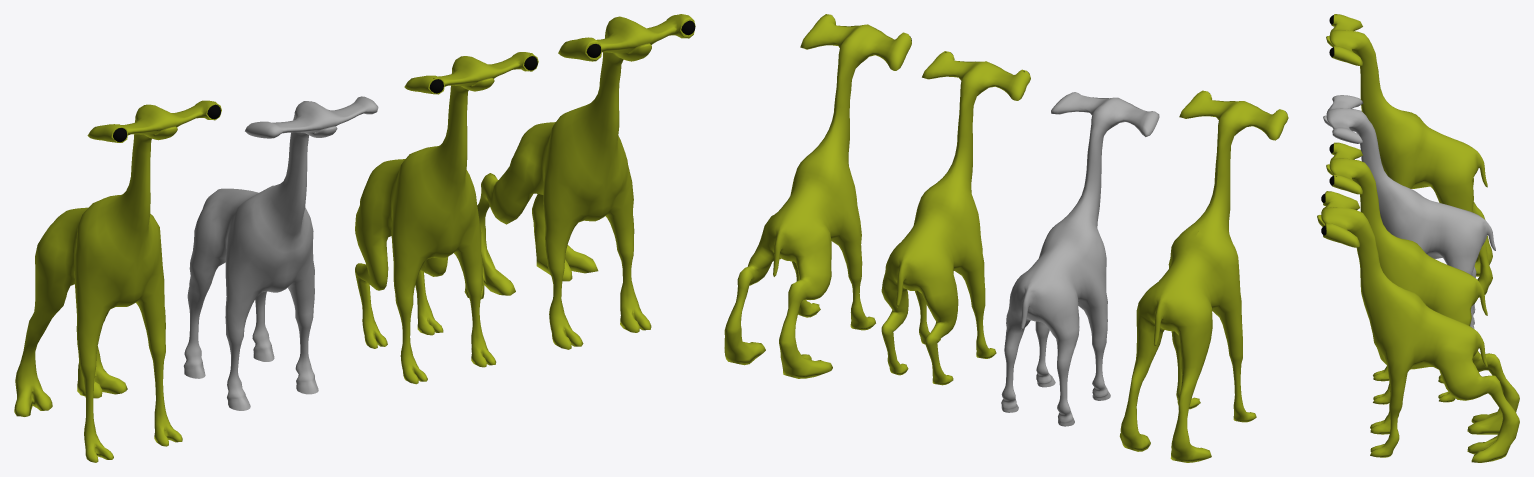
File: Shrff_Leg_Concepts.fbx
The picture shows the model from 3 angles, left to right: view 1: azimuth 30°, elevation 25°; view 2: azimuth 150°, elevation 25°; view 3: azimuth 270°, elevation 25°; orthographic projection. The views are drawn at different scales.
Visible parts, largest first — view 1: Body (×2), Sharaffe_3_Body, Sharraffe_OG; view 2: Body (×2), Sharaffe_3_Body, Sharraffe_OG; view 3: Body (×2), Sharaffe_3_Body, Sharraffe_OG.
Part boxes in pixels (x1,y1,x2,y2): Body (×2): (14,52,538,462); Sharaffe_3_Body: (464,14,695,349); Sharraffe_OG: (183,96,378,410); Body (×2): (881,51,1288,462); Sharaffe_3_Body: (724,14,911,378); Sharraffe_OG: (1001,92,1159,426); Body (×2): (1326,14,1492,404); Sharaffe_3_Body: (1317,191,1519,462); Sharraffe_OG: (1323,95,1495,328).
Bounding box in the file's own units: 15.87 × 9.2 × 6.71.
